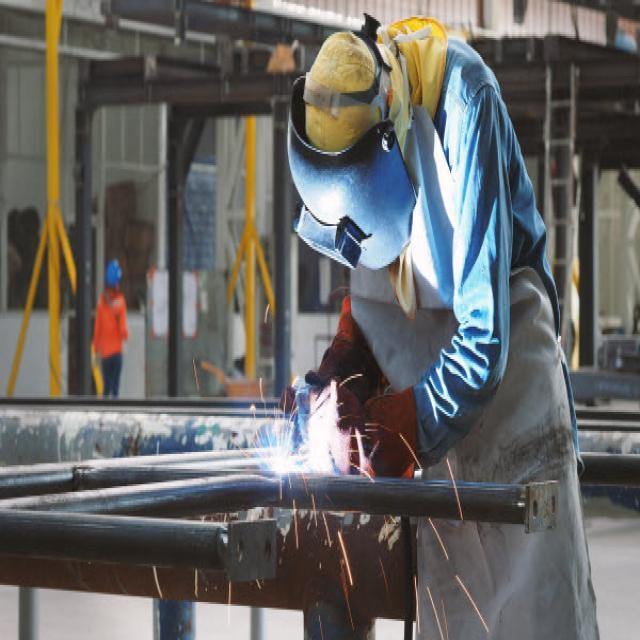with_helmet: (288, 77, 416, 268)
